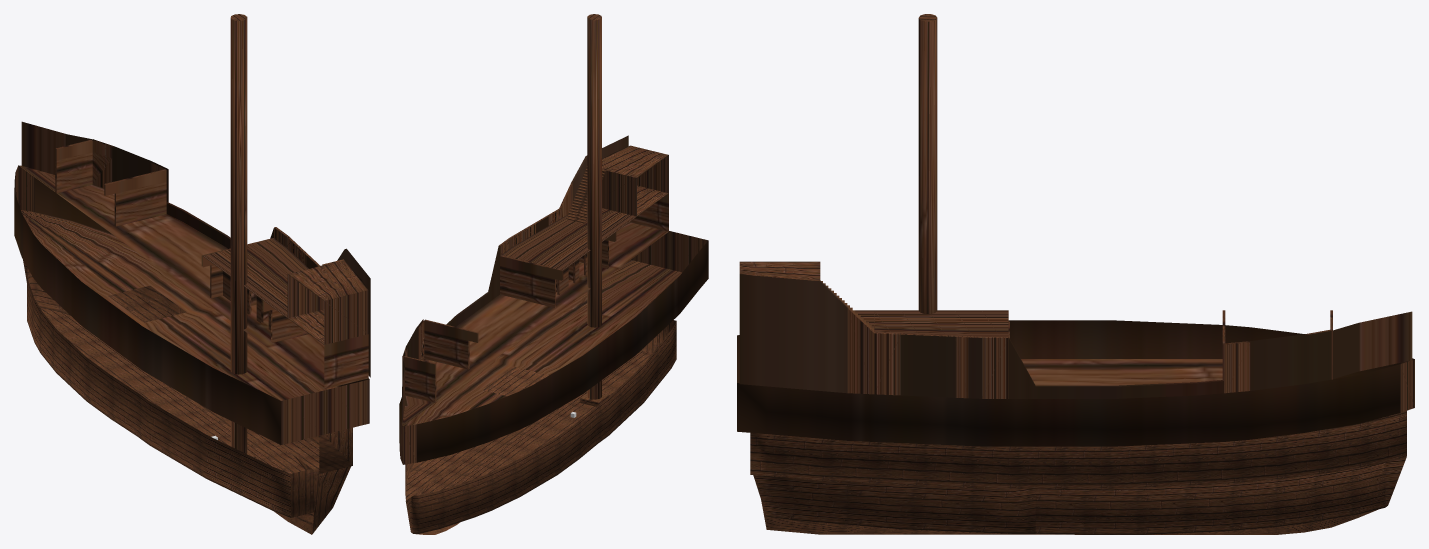
File: airship.glb
3 views of the same model, side by side, from view 1: azimuth 30°, elevation 25°; view 2: azimuth 150°, elevation 25°; view 3: azimuth 270°, elevation 25° (orthographic). The views are drawn at different scales.
Parts seen in each view (by area): view 1: GunDeck, MainDeck, LowerDeck, Mast, QuarterDeck, OrlopDeck, PoopDeck, Exterior; view 2: GunDeck, MainDeck, LowerDeck, QuarterDeck, Mast, OrlopDeck, PoopDeck; view 3: GunDeck, MainDeck, OrlopDeck, LowerDeck, Exterior, Mast, QuarterDeck, PoopDeck.
Part boxes in pixels (x1,y1,x2,y2): GunDeck: (14,165,369,444); MainDeck: (20,121,370,389); LowerDeck: (27,268,317,517); Mast: (230,14,255,458); QuarterDeck: (203,239,368,344); OrlopDeck: (108,285,352,473); PoopDeck: (288,259,367,300); Exterior: (23,260,350,534); GunDeck: (399,231,708,464); MainDeck: (402,135,668,425); LowerDeck: (411,320,676,533); QuarterDeck: (501,147,668,270); Mast: (580,14,609,406); OrlopDeck: (405,366,548,500); PoopDeck: (566,145,668,223); GunDeck: (737,320,1414,446); MainDeck: (739,274,1412,398); OrlopDeck: (750,411,1406,488); LowerDeck: (1035,462,1385,534); Exterior: (753,457,1406,534); Mast: (918,14,937,313); QuarterDeck: (855,310,1008,336); PoopDeck: (739,261,874,331).
Size of the model in its own units: 6.9 by 21.2 by 25.2.
Materials: 1 (1 with a texture image).
